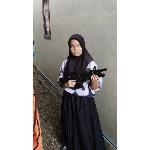Senapan: (57, 63, 112, 94)
